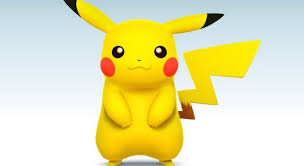pikachu: (64, 1, 261, 163)
